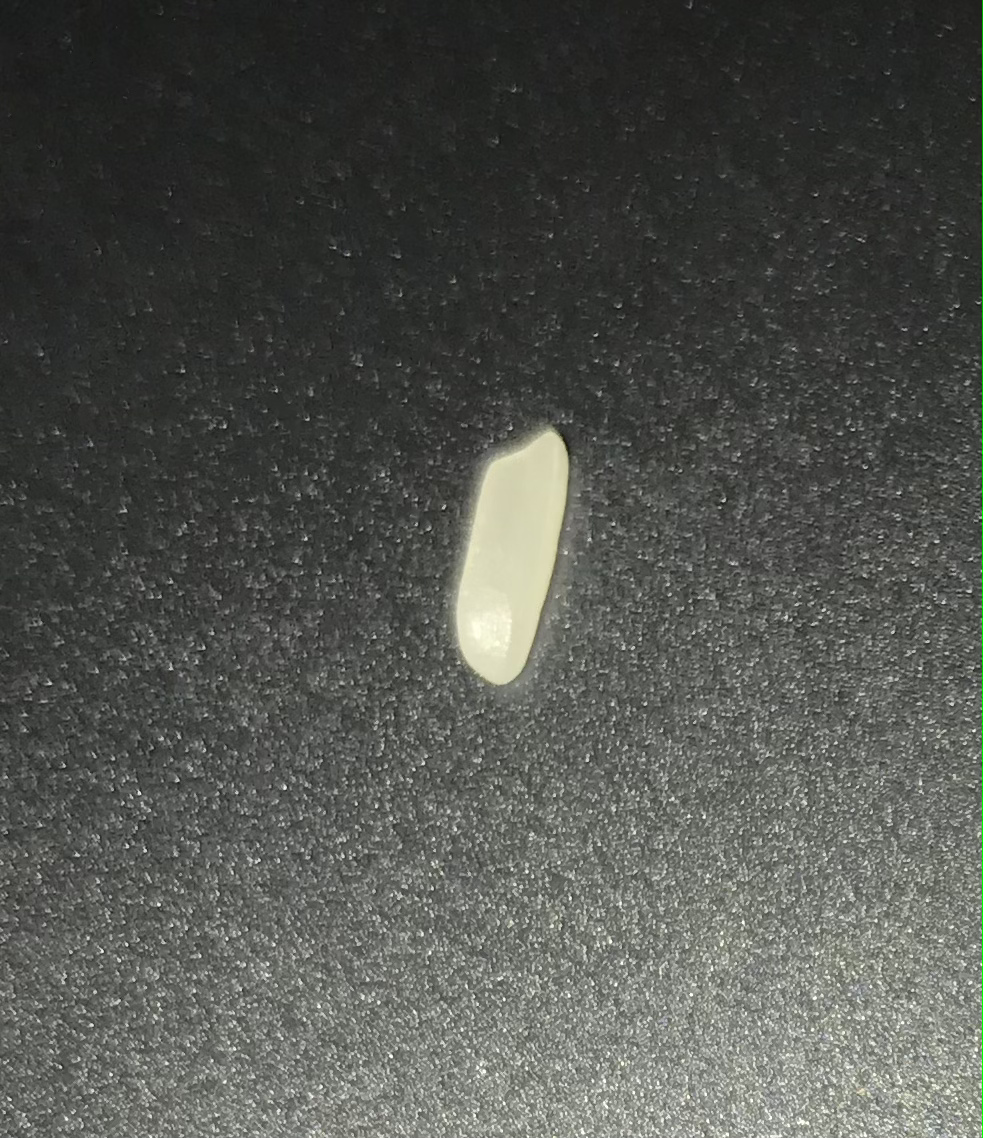Gao Thom My: (425, 427, 599, 725)
